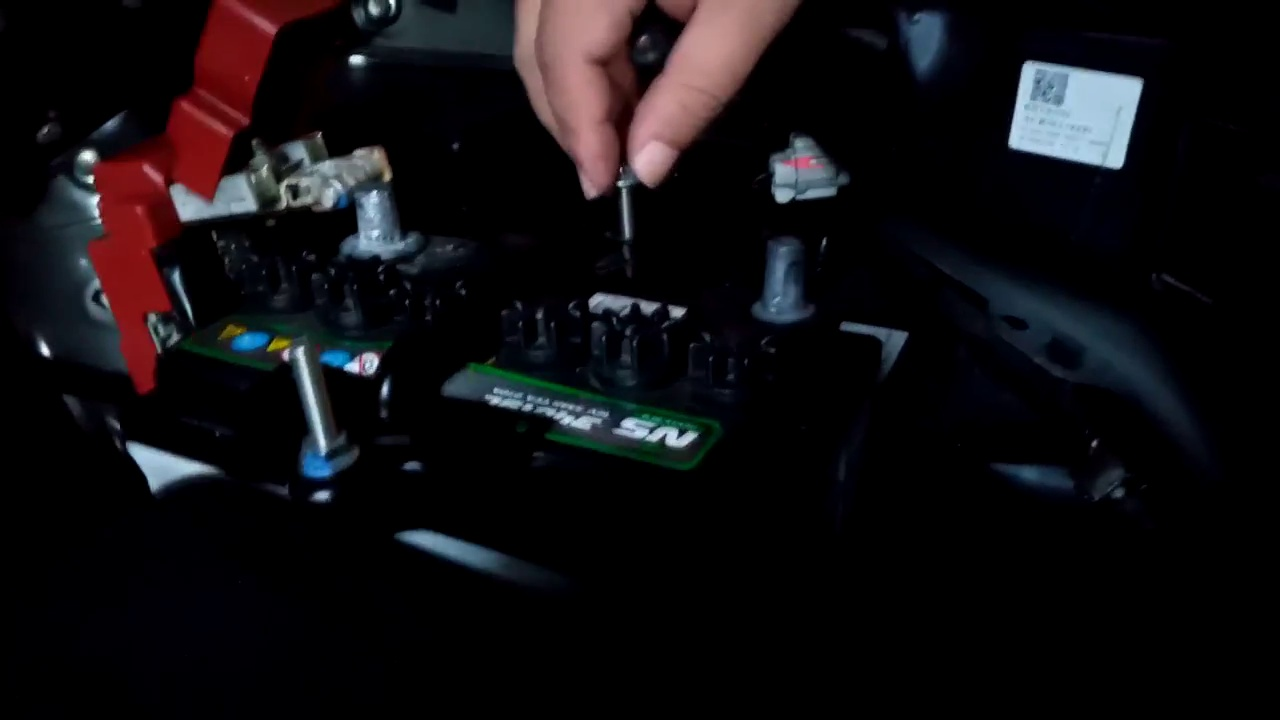battery: (128, 187, 861, 559)
neg_disconnected: (711, 204, 844, 337)
pos_disconnected: (74, 75, 420, 305)
